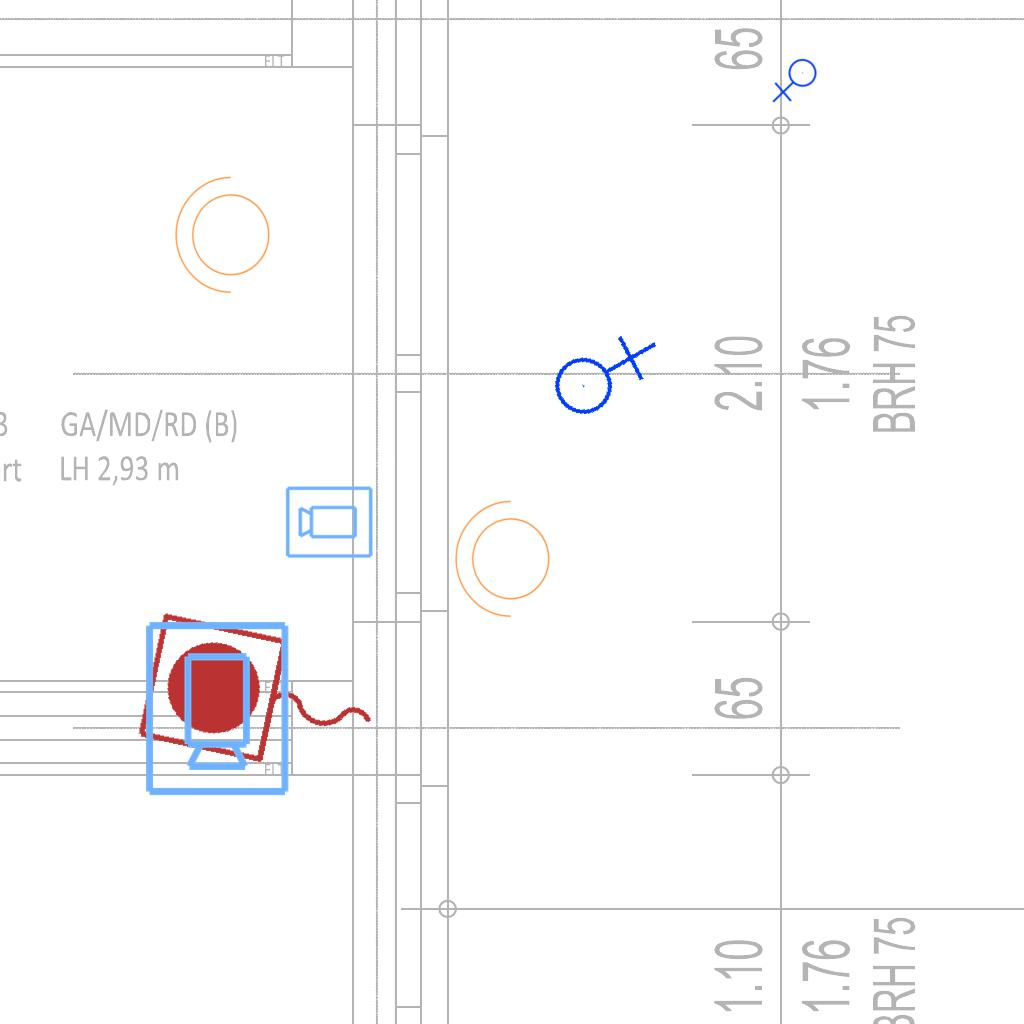Elektroanschluss_allgemein_230V_Geraeteanschlussdose_230V: (540, 314, 659, 430), (772, 58, 821, 105)
KFO_Kamera_mit_Festobjektiv: (139, 617, 293, 799), (284, 483, 375, 560)
Scheinwerfer_fuer_Alarmbeleuchtung: (170, 172, 282, 304), (450, 496, 562, 628)
Zugtaster: (127, 604, 397, 796)
